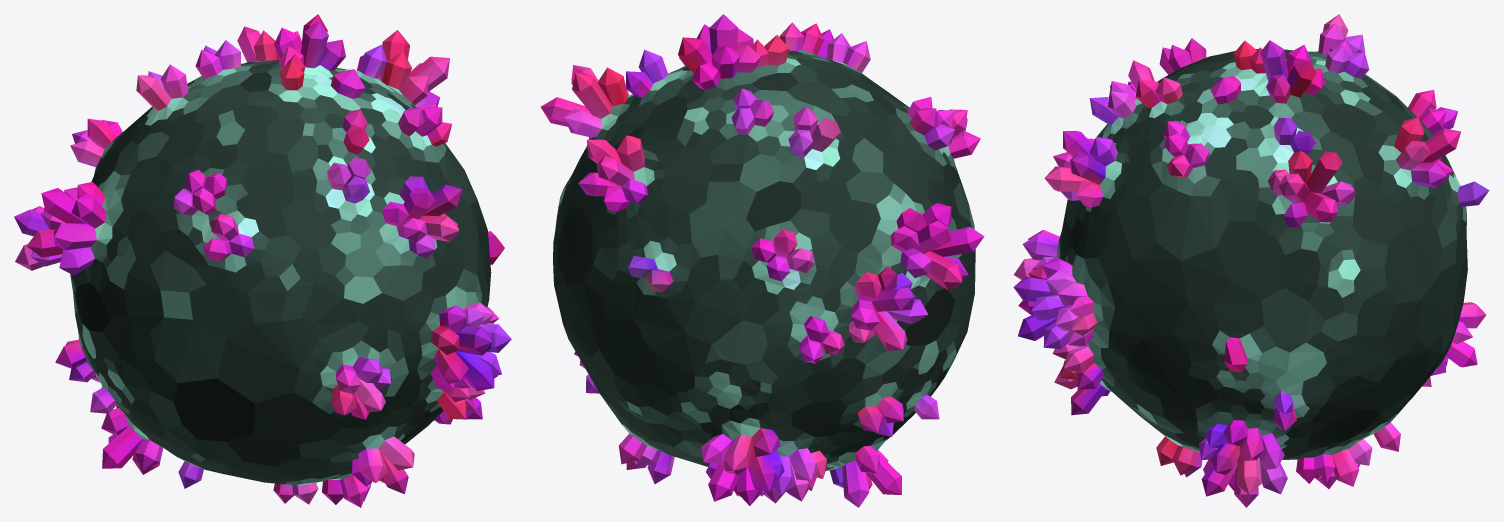
The model's file is Crystal_planet_27.fbx.
3 renders of one model, left to right at view 1: azimuth 30°, elevation 25°; view 2: azimuth 150°, elevation 25°; view 3: azimuth 270°, elevation 25°, orthographic. The views are drawn at different scales.
Parts seen in each view (by area): view 1: file6; view 2: file6; view 3: file6.
Part boxes in pixels (x1,y1,x2,y2): file6: (14,14,511,507); file6: (541,14,984,507); file6: (1013,14,1489,507).
Bounding box in the file's own units: 2.35 × 2.41 × 2.31.
